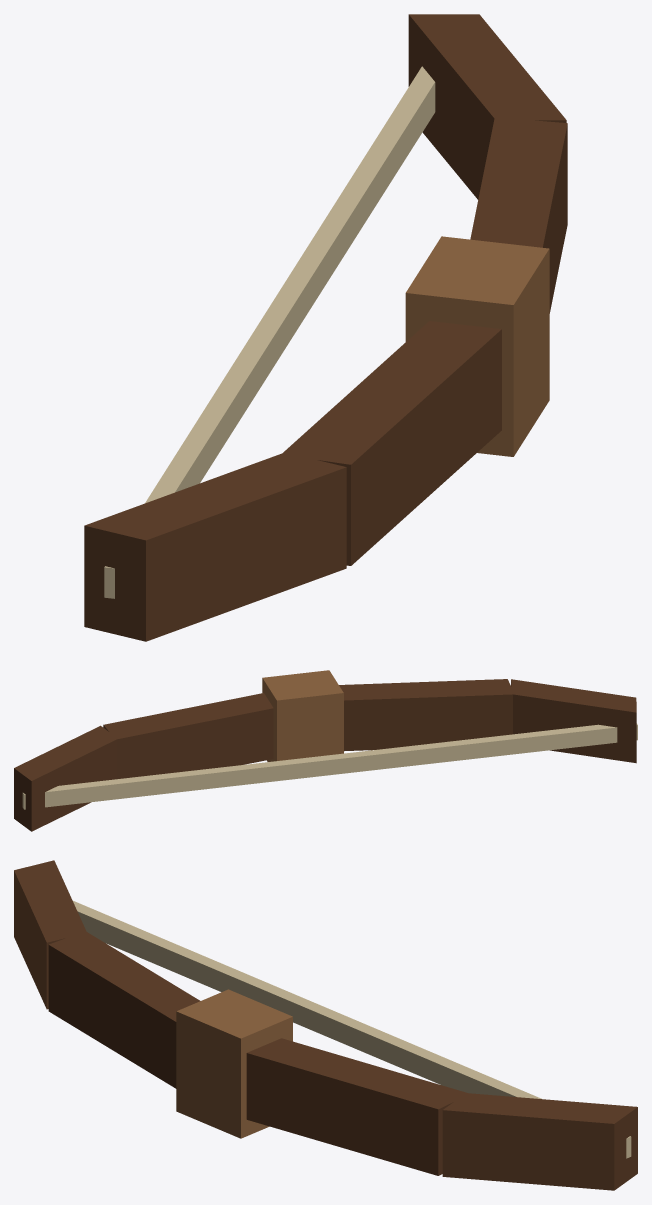
Rendered from shortbow.glb.
The picture shows the model from 3 angles, top to bottom: view 1: azimuth 30°, elevation 25°; view 2: azimuth 150°, elevation 25°; view 3: azimuth 270°, elevation 25°; orthographic projection. The views are drawn at different scales.
Parts seen in each view (by area): view 1: shortbow; view 2: shortbow; view 3: shortbow.
Part boxes in pixels (x1=…): shortbow: x1=84, y1=14, x2=567, y2=641; shortbow: x1=14, y1=670, x2=637, y2=831; shortbow: x1=14, y1=860, x2=637, y2=1190.
Bounding box in the file's own units: 0.6354 × 0.1125 × 0.6354.
